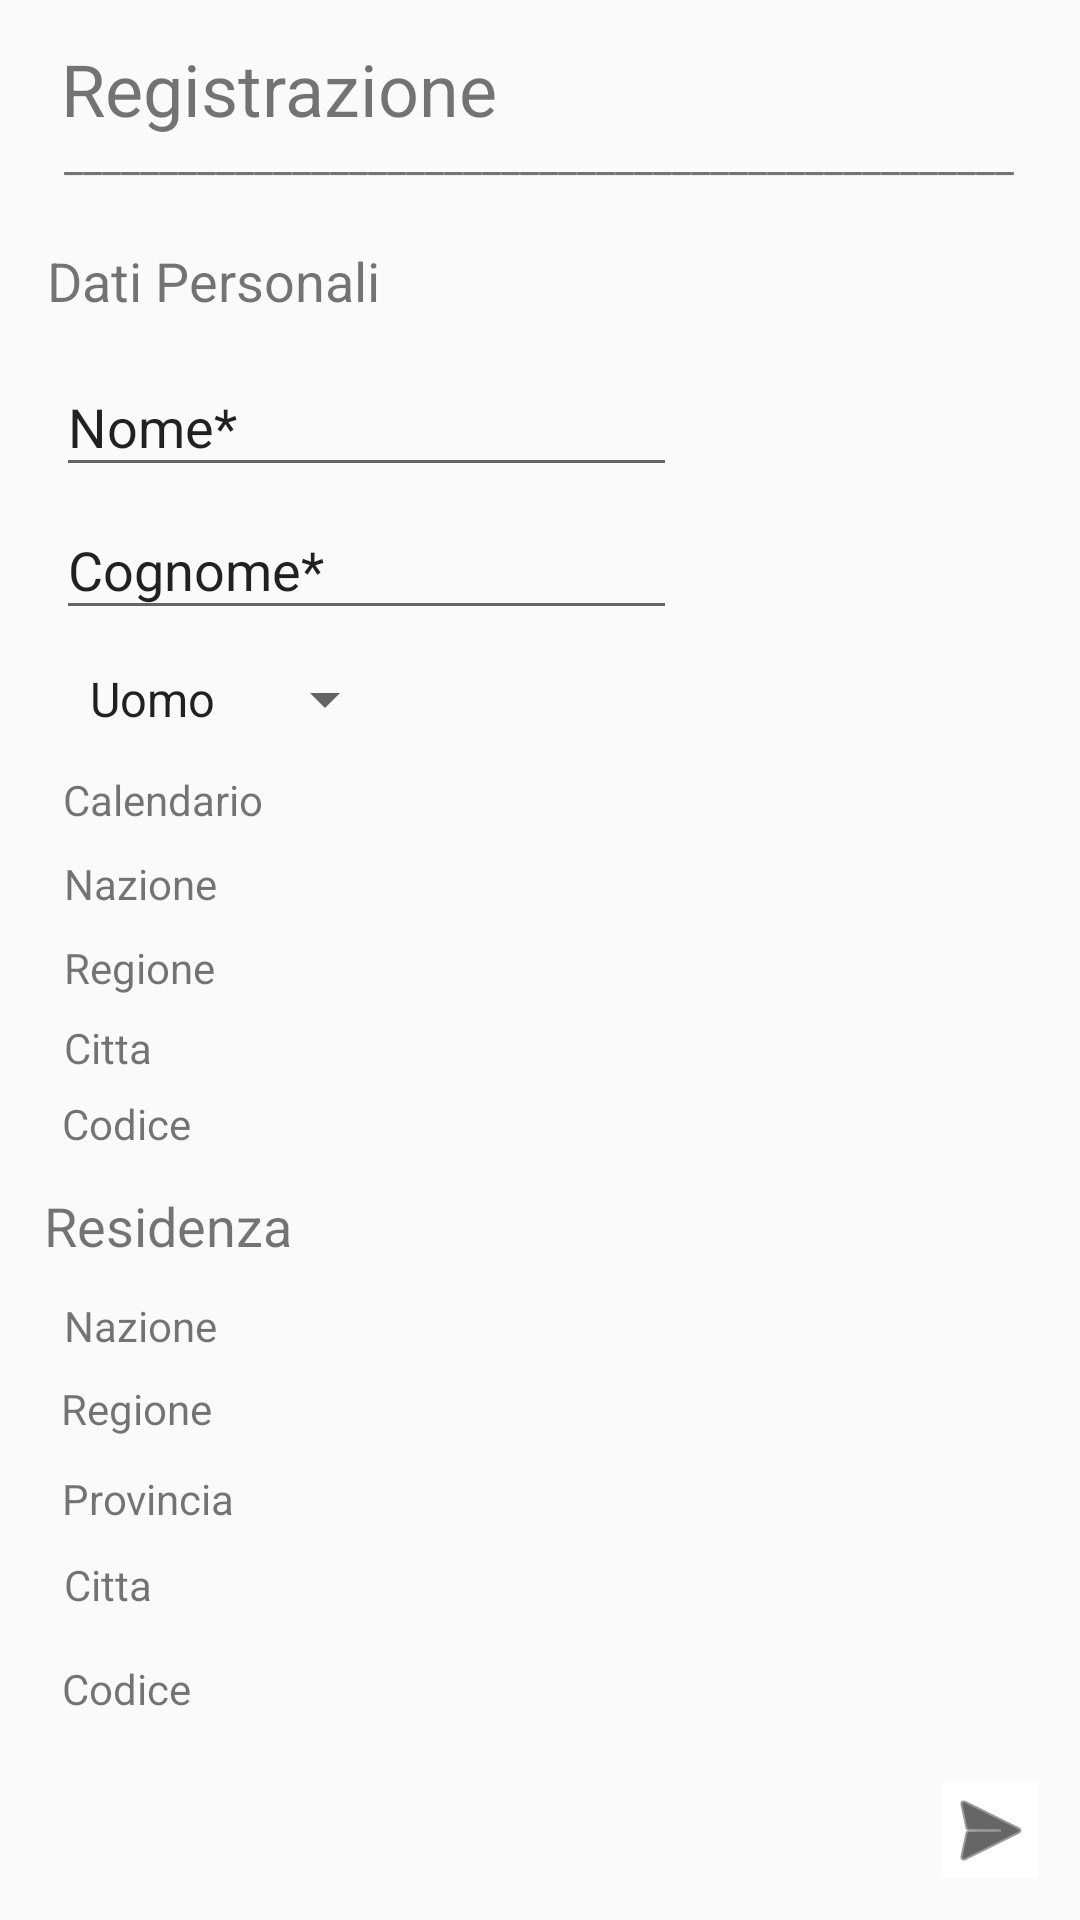

Screen size 1080×1920. Icon name, then its box in pixels as (x1, y1, x2, y2):
send: (960, 1800, 1022, 1861)
